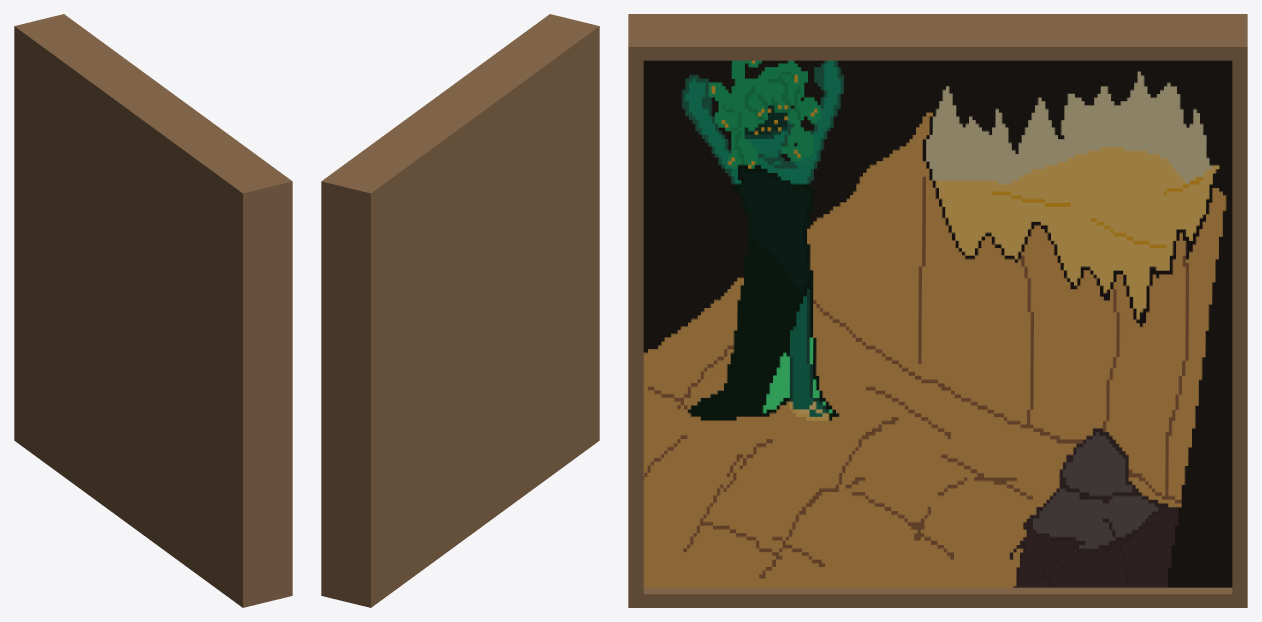
File: GorgonPainting.fbx
The picture shows the model from 3 angles, left to right: view 1: azimuth 30°, elevation 25°; view 2: azimuth 150°, elevation 25°; view 3: azimuth 270°, elevation 25°; orthographic projection. The views are drawn at different scales.
Visible parts, largest first — view 1: Cube.091; view 2: Cube.091; view 3: Cube.091.
Part boxes in pixels (x1,y1,x2,y2): Cube.091: [14, 14, 292, 607]; Cube.091: [321, 14, 599, 607]; Cube.091: [628, 14, 1247, 607].
Size of the model in its own units: 25.11 by 200 by 200.
